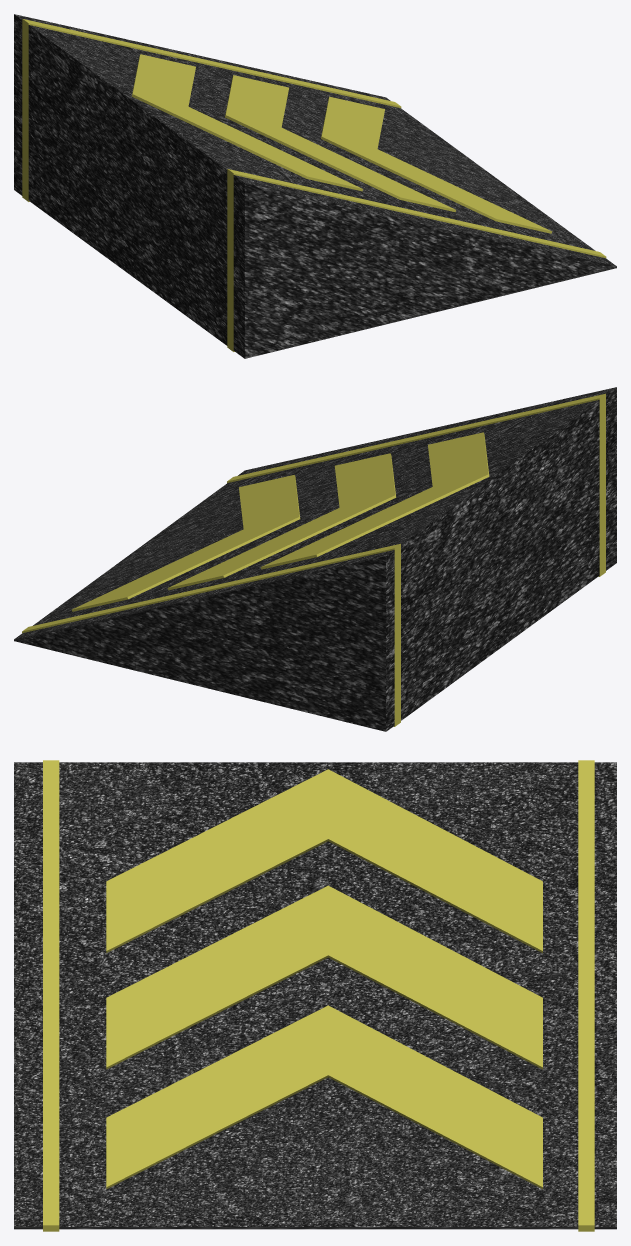
The model's file is ramp 2.fbx.
3 renders of one model, top to bottom at view 1: azimuth 30°, elevation 25°; view 2: azimuth 150°, elevation 25°; view 3: azimuth 270°, elevation 25°, orthographic. The views are drawn at different scales.
Parts seen in each view (by area): view 1: polySurface22; view 2: polySurface22; view 3: polySurface22.
Part boxes in pixels (x1,y1,x2,y2): polySurface22: (14,14,616,358); polySurface22: (14,387,616,731); polySurface22: (14,760,616,1231).
Bounding box in the file's own units: 9.32 × 4.27 × 10.
2 materials, 1 textured.
